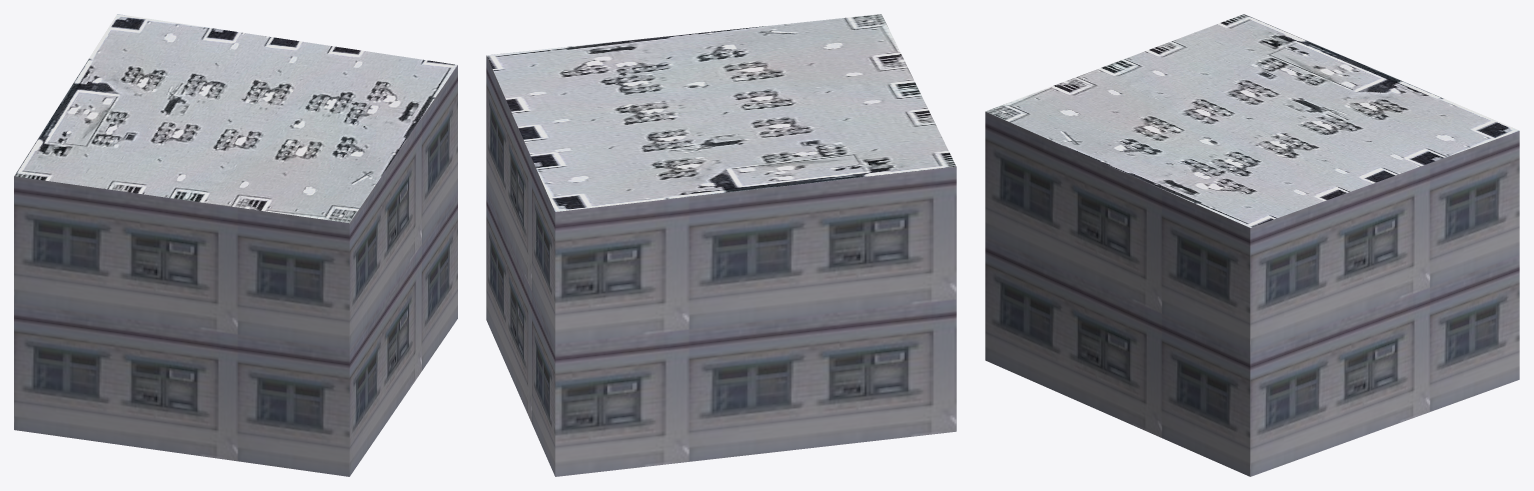
File: ResTex__4744.fbx
3 views of the same model, side by side, from view 1: azimuth 30°, elevation 25°; view 2: azimuth 150°, elevation 25°; view 3: azimuth 270°, elevation 25° (orthographic). The views are drawn at different scales.
Parts seen in each view (by area): view 1: CityEngineMaterial_1_m, CityEngineMaterial_4_m; view 2: CityEngineMaterial_1_m, CityEngineMaterial_4_m; view 3: CityEngineMaterial_1_m, CityEngineMaterial_4_m.
Part boxes in pixels (x1,y1,x2,y2): CityEngineMaterial_1_m: (14,65,457,476); CityEngineMaterial_4_m: (14,14,457,223); CityEngineMaterial_1_m: (486,55,956,476); CityEngineMaterial_4_m: (486,14,956,211); CityEngineMaterial_1_m: (985,111,1519,476); CityEngineMaterial_4_m: (985,14,1519,227).
Size of the model in its own units: 11.06 by 6 by 11.68.
2 materials, 2 textured.
